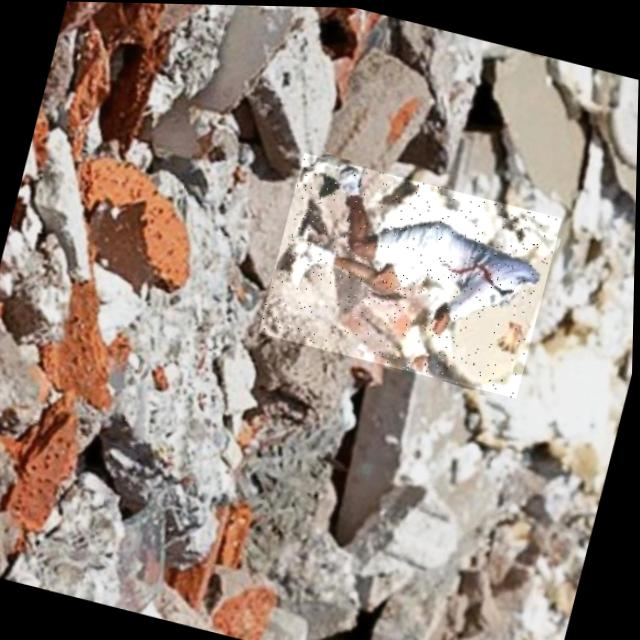Person in Rubble: (257, 150, 562, 396)
